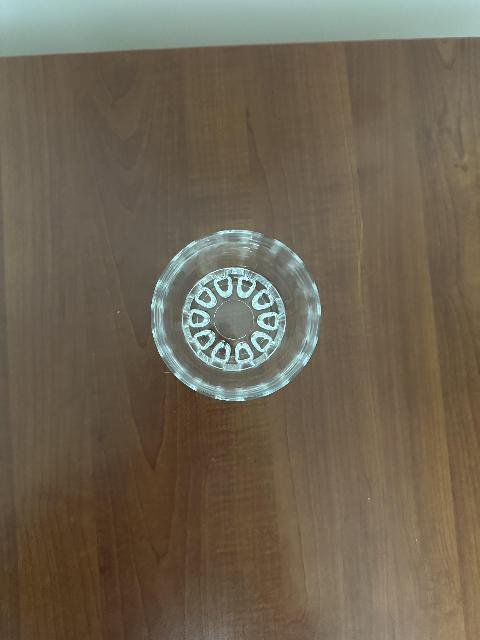Cam: (143, 219, 341, 416), (327, 299, 338, 323), (168, 229, 178, 246), (291, 251, 303, 265), (335, 344, 346, 358), (136, 367, 145, 383), (339, 267, 345, 287), (155, 351, 161, 369), (136, 344, 146, 352)
